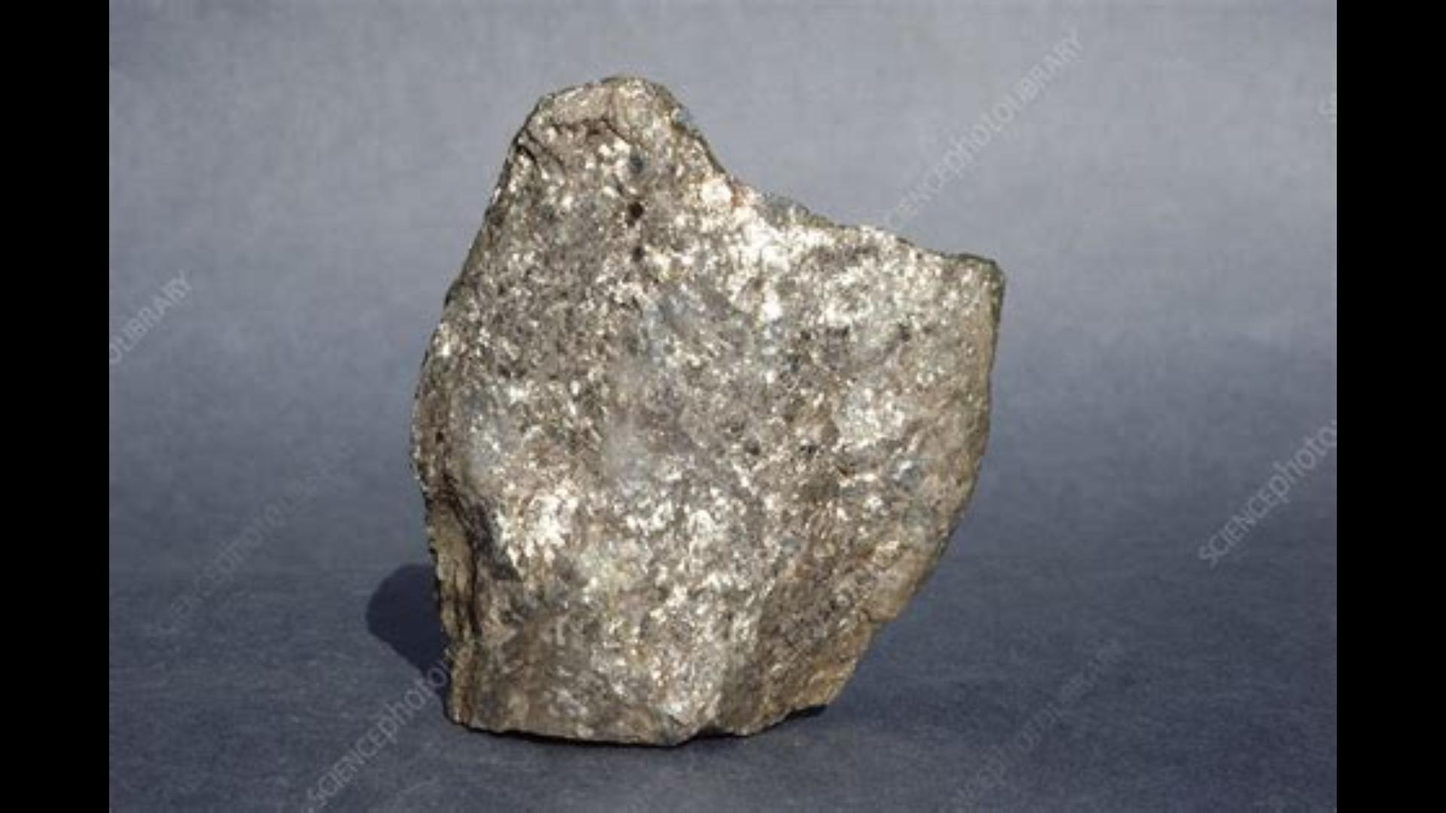rock: (412, 85, 1000, 741)
